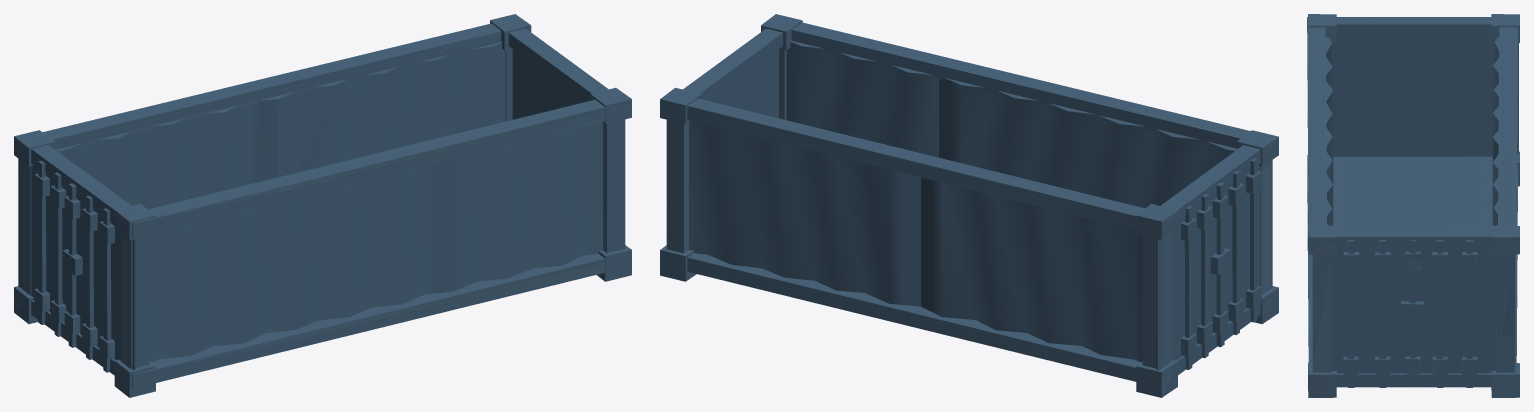
Rendered from container_decheterie.glb.
The picture shows the model from 3 angles, left to right: view 1: azimuth 30°, elevation 25°; view 2: azimuth 150°, elevation 25°; view 3: azimuth 270°, elevation 25°; orthographic projection. The views are drawn at different scales.
Parts seen in each view (by area): view 1: container_decheteire; view 2: container_decheteire; view 3: container_decheteire.
Part boxes in pixels (x1,y1,x2,y2): container_decheteire: [14, 14, 631, 397]; container_decheteire: [660, 14, 1278, 397]; container_decheteire: [1307, 14, 1519, 397].
Bounding box in the file's own units: 6 × 2 × 2.4.
Materials: 1 (1 with a texture image).
